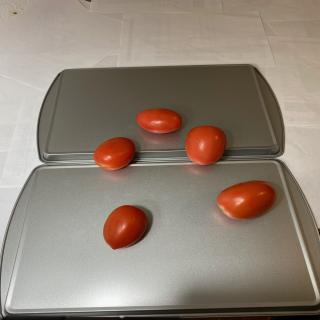Tomato: (216, 180, 278, 220), (103, 205, 148, 250), (185, 126, 227, 166), (93, 137, 136, 170), (136, 108, 182, 134)
